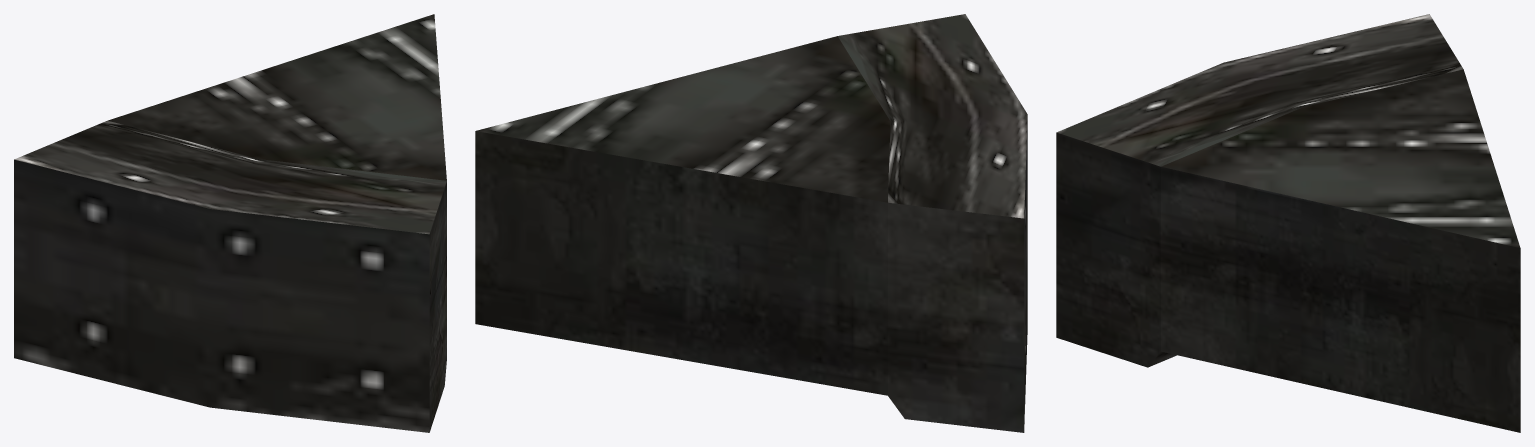
The model's file is piece01_06.glb.
The picture shows the model from 3 angles, left to right: view 1: azimuth 30°, elevation 25°; view 2: azimuth 150°, elevation 25°; view 3: azimuth 270°, elevation 25°; orthographic projection. The views are drawn at different scales.
Parts seen in each view (by area): view 1: model_piece01_06; view 2: model_piece01_06; view 3: model_piece01_06.
Part boxes in pixels (bbox=[...]): model_piece01_06: bbox=[14, 14, 446, 432]; model_piece01_06: bbox=[475, 14, 1027, 432]; model_piece01_06: bbox=[1056, 14, 1520, 432].
Bounding box in the file's own units: 1.25 × 0.5102 × 1.05.
Materials: 1 (1 with a texture image).
